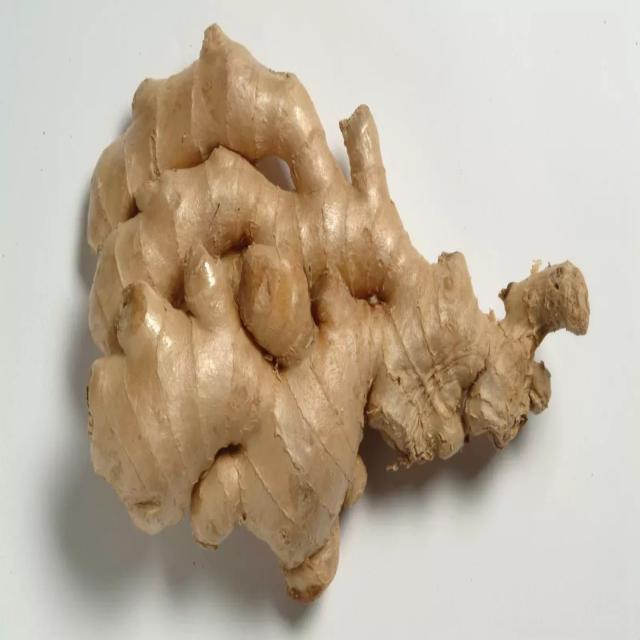ginger-root: (79, 16, 592, 610)
